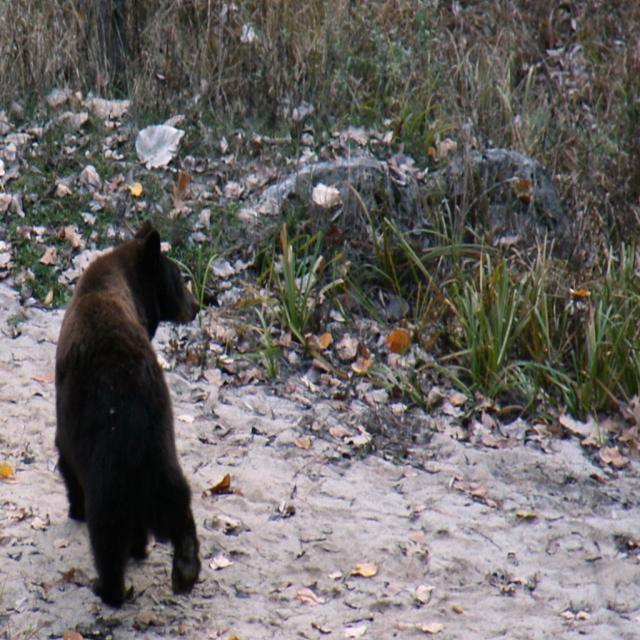Cheetahs: (54, 218, 206, 606)
